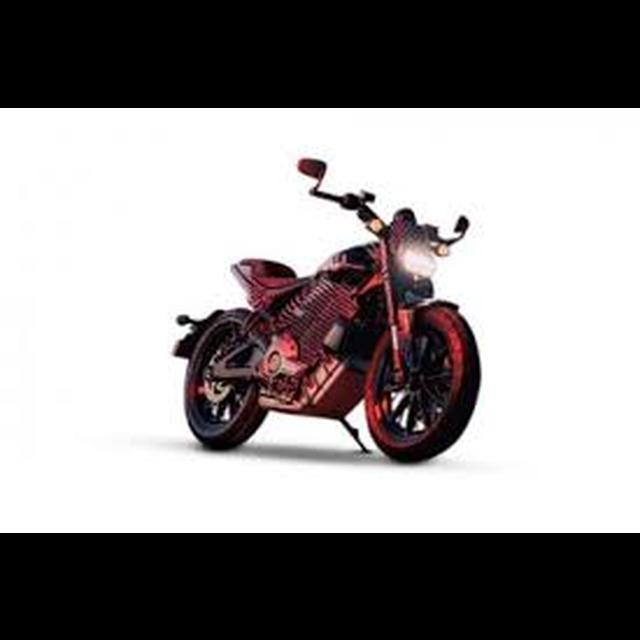motorcycle: (169, 153, 483, 471)
